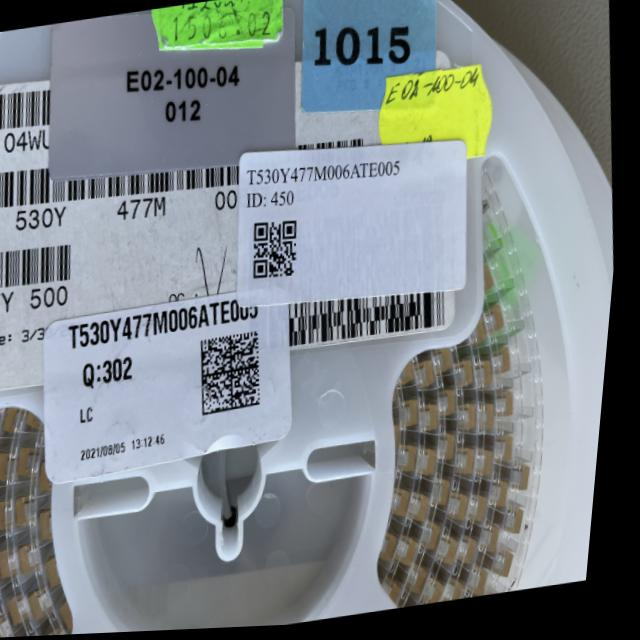datamatrix: (198, 331, 276, 425)
qrcode: (250, 217, 310, 290)
